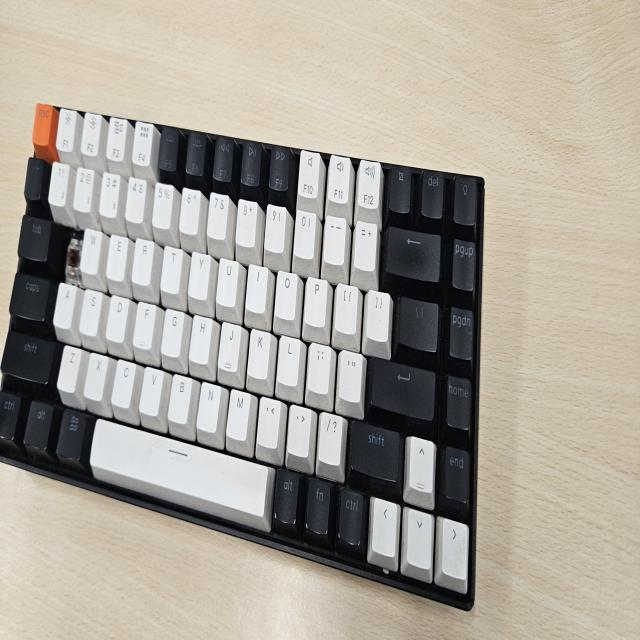C: (64, 238, 80, 278), (64, 239, 78, 274)
